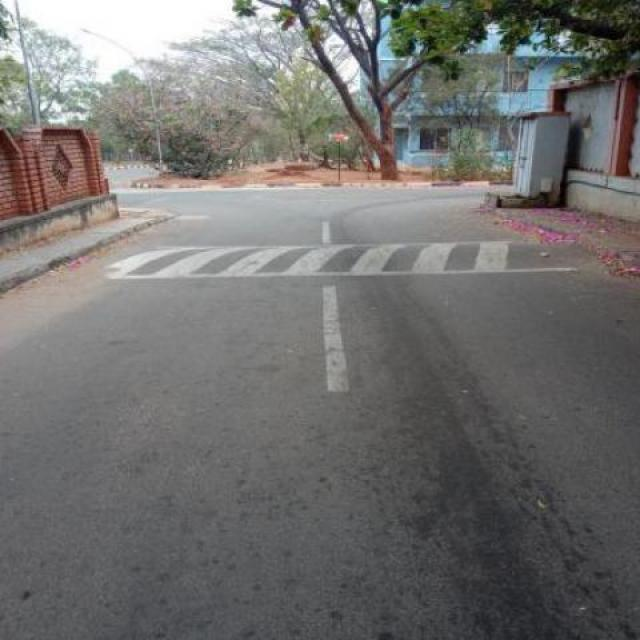Speed Bump: (93, 238, 631, 278)
